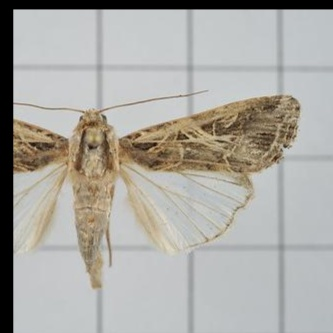Spodoptera litura: (14, 90, 300, 289)
